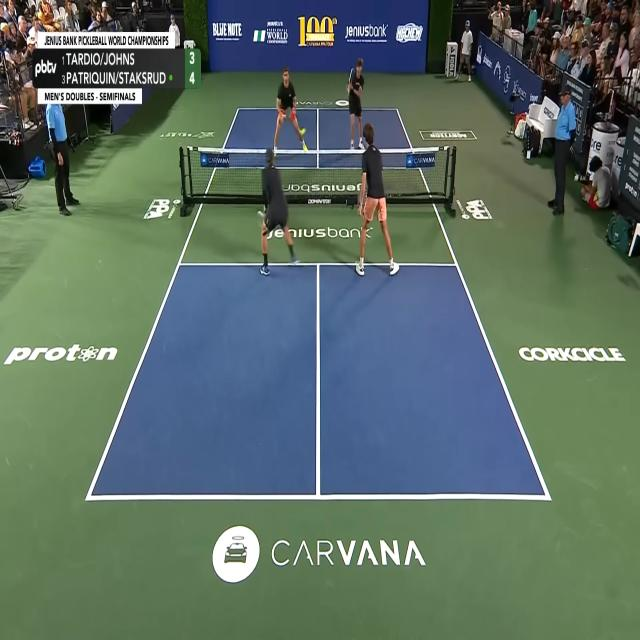ball: (300, 127, 307, 136)
